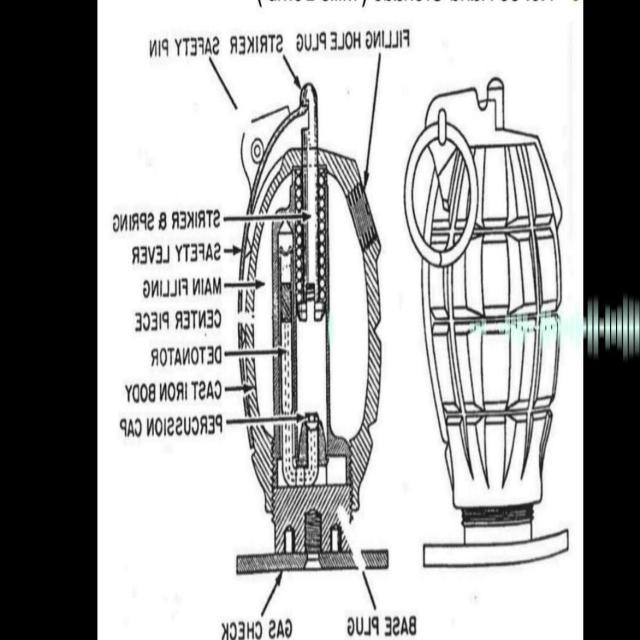grenade: (404, 78, 571, 568)
